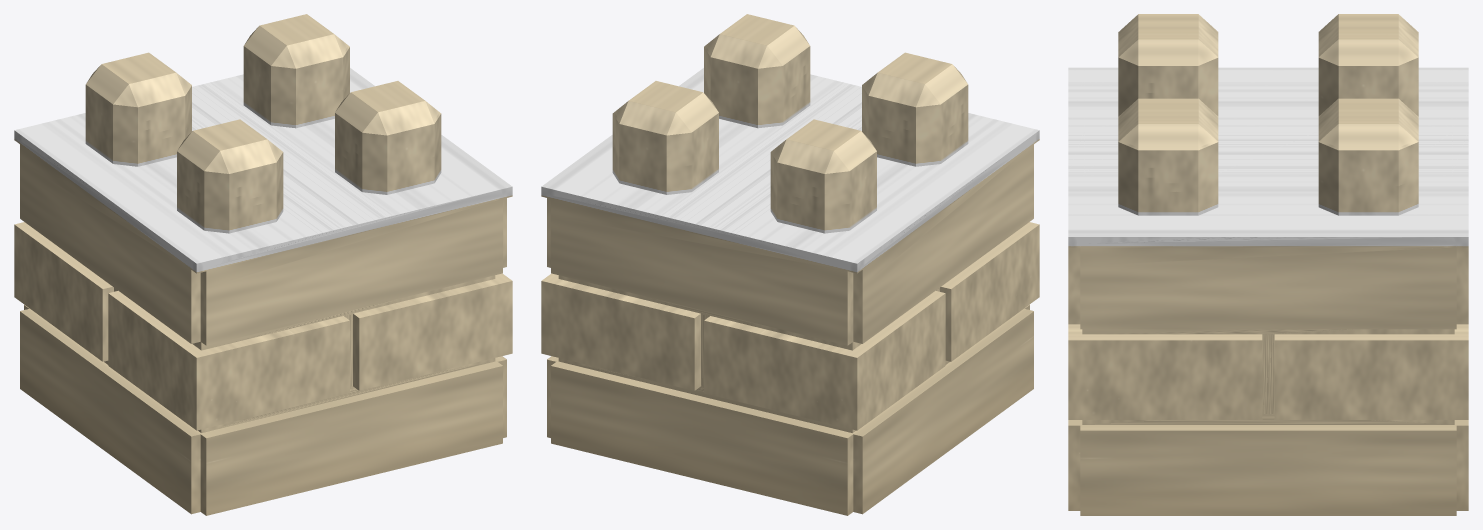
3 views of the same model, side by side, from view 1: azimuth 30°, elevation 25°; view 2: azimuth 150°, elevation 25°; view 3: azimuth 270°, elevation 25° (orthographic). The views are drawn at different scales.
Visible parts, largest first — view 1: wall; view 2: wall; view 3: wall.
Boxes of the visible parts, left/top/right/bottom form: wall: left=14, top=14, right=512, bottom=515; wall: left=541, top=14, right=1039, bottom=515; wall: left=1068, top=14, right=1468, bottom=515.
Bounding box in the file's own units: 1 × 1 × 1.
Materials: 1 (1 with a texture image).
